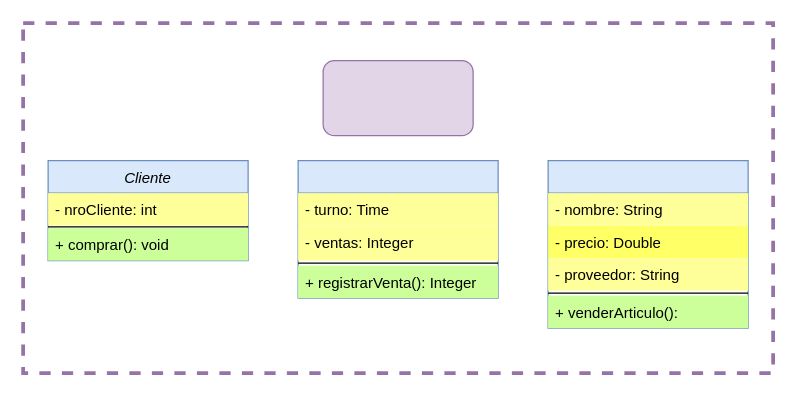
Image size: 796x396. Some labels were removed from this diagram. The box of each missing label's shape, as (x1, y1, x2, y2) in pixels:
Artículo: (547, 159, 748, 328)
CONTEXTO: Tienda de Golosinas: (322, 59, 473, 136)
Empleado: (297, 159, 498, 298)
